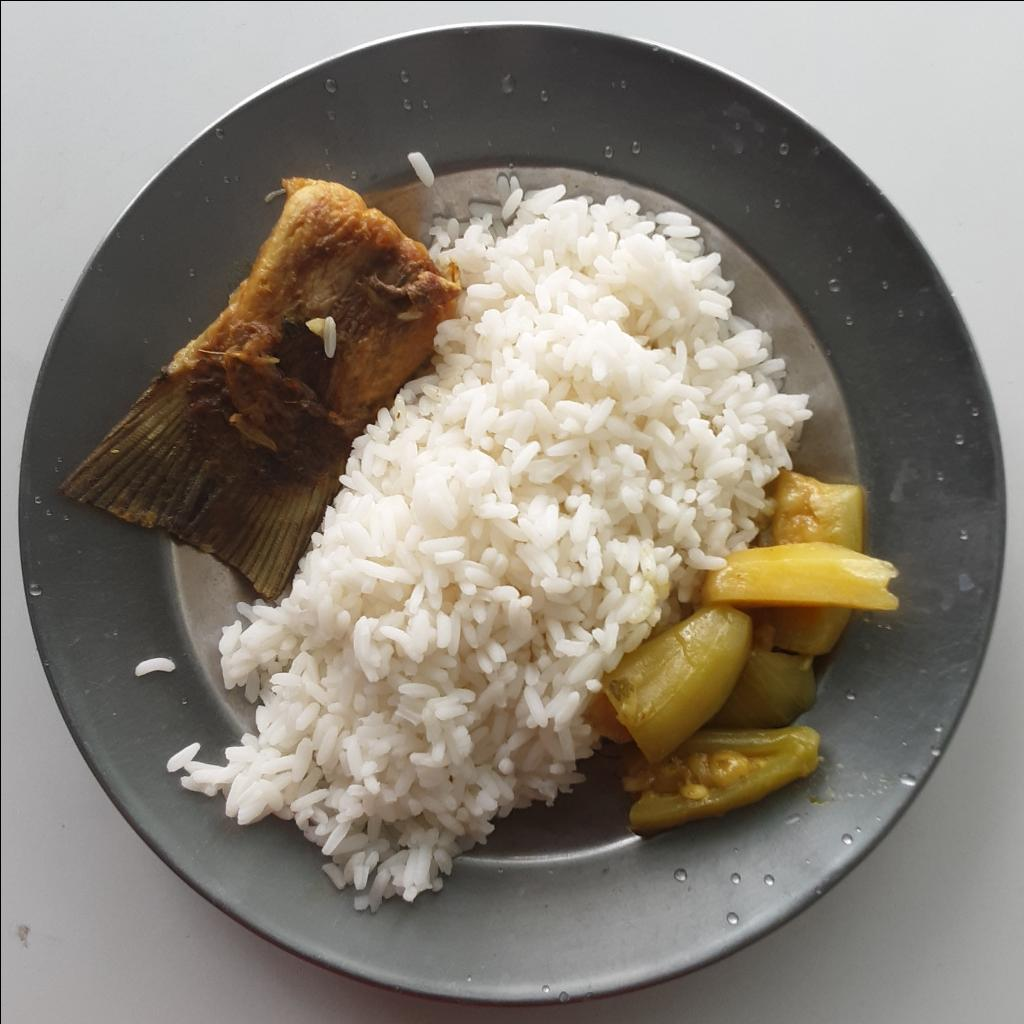fish: (57, 176, 465, 597)
potato: (703, 541, 906, 609)
potol: (594, 611, 855, 835), (767, 467, 861, 547)
rice: (156, 165, 810, 914), (402, 142, 441, 196), (131, 654, 173, 685), (320, 315, 343, 360)
